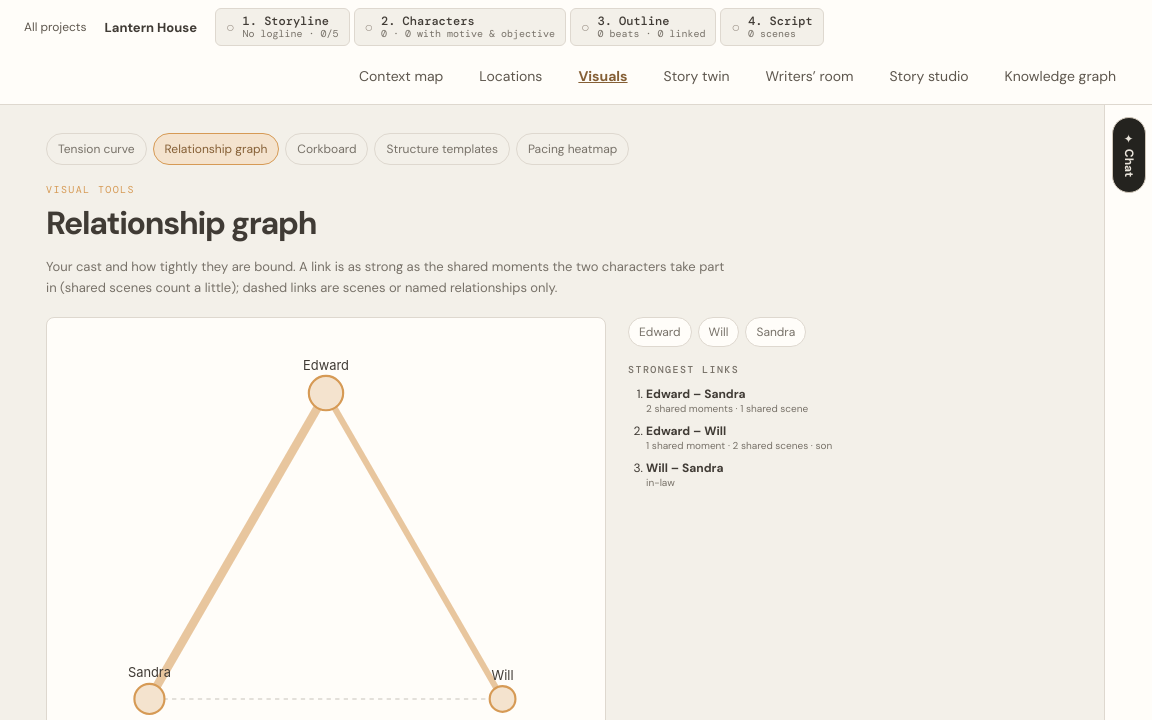
RelationshipGraph › ranks links by shared moments and focuses a character
This screenshot has width=1152, height=720.
Click the button "Will" at (719, 332), box x1=698 y1=317 x2=740 y2=347
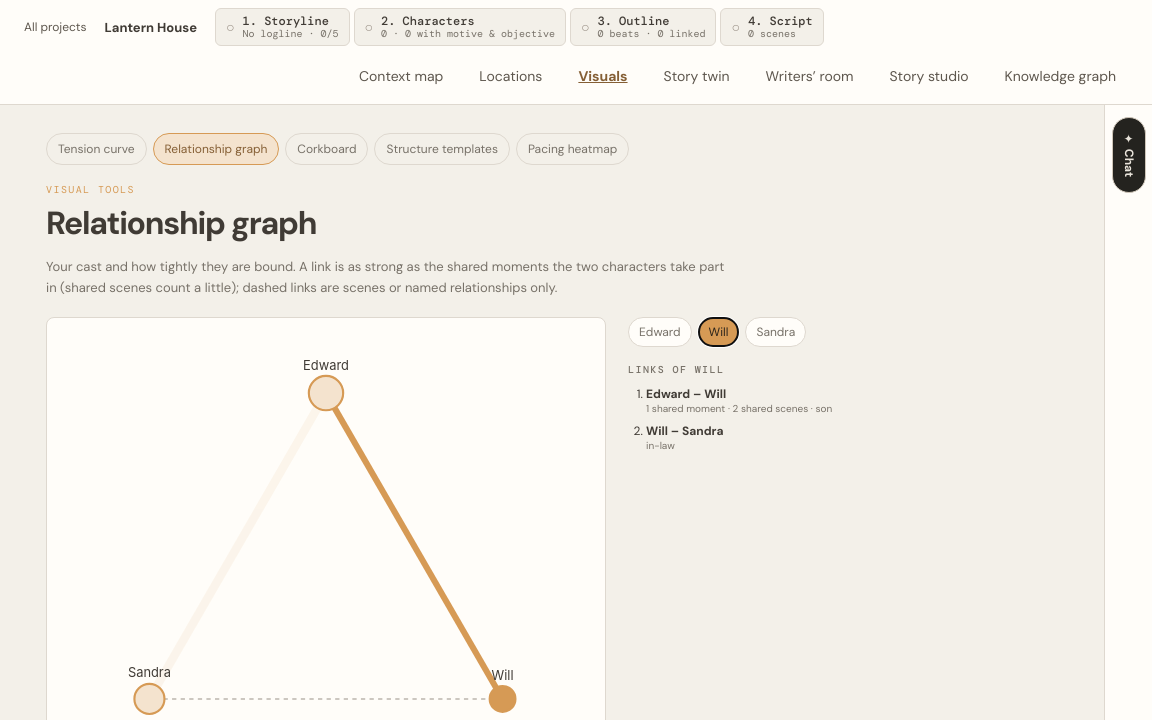
Check: the heading "Links of Will" is shown, box x1=628 y1=363 x2=724 y2=376
Check: the number of list items is 2, box x1=646 y1=386 x2=832 y2=415; x1=646 y1=423 x2=724 y2=452
Click the button "Will" at (719, 332), box x1=698 y1=317 x2=740 y2=347
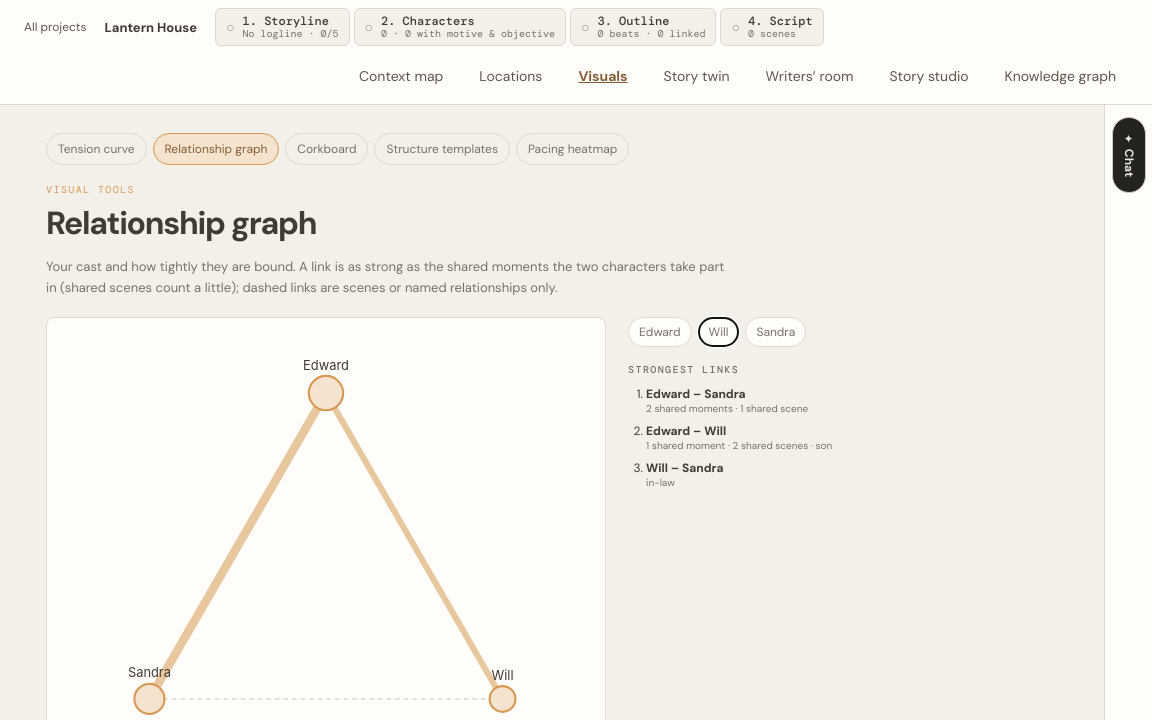
Check: the heading "Strongest links" is shown, box x1=628 y1=363 x2=739 y2=376
